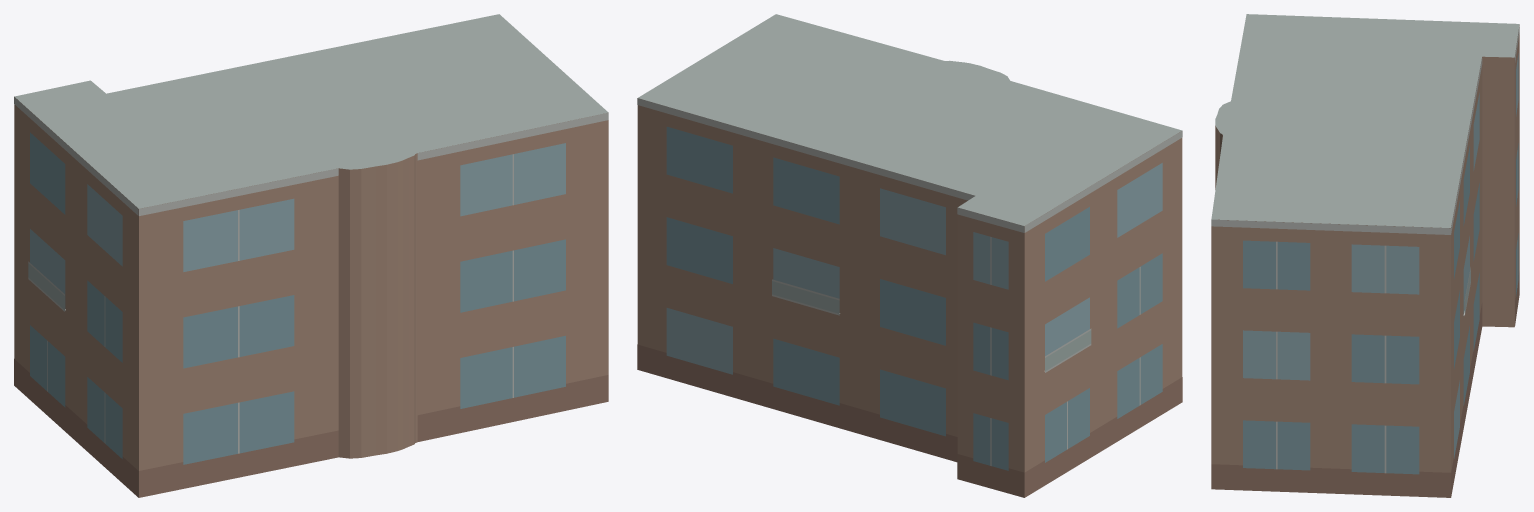
The model's file is survey-upis-32678210.glb.
The picture shows the model from 3 angles, left to right: view 1: azimuth 30°, elevation 25°; view 2: azimuth 150°, elevation 25°; view 3: azimuth 270°, elevation 25°; orthographic projection. The views are drawn at different scales.
Visible parts, largest first — view 1: survey-upis-32678210.tmp; view 2: survey-upis-32678210.tmp; view 3: survey-upis-32678210.tmp.
Part boxes in pixels (box(x1,y1,x2,y2)): survey-upis-32678210.tmp: box(14, 14, 608, 497); survey-upis-32678210.tmp: box(637, 14, 1182, 497); survey-upis-32678210.tmp: box(1211, 14, 1519, 497).
Bounding box in the file's own units: 16.18 × 9.5 × 9.85.
